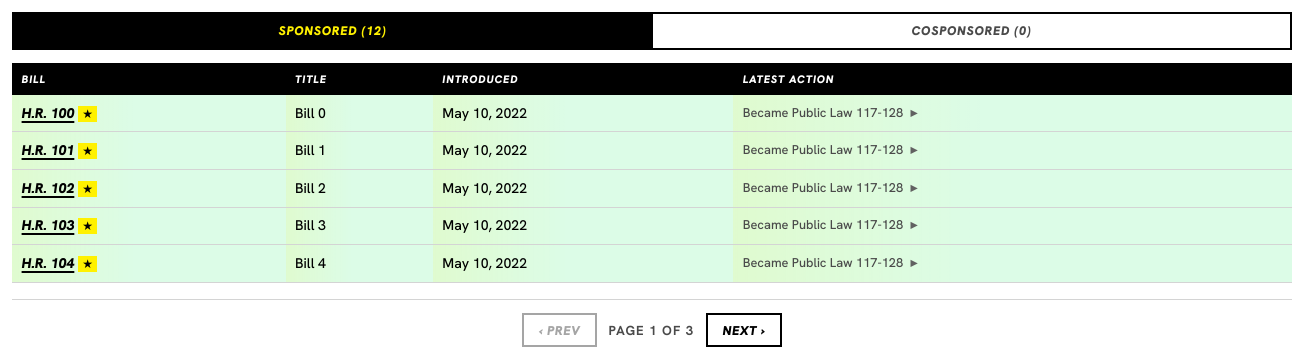
Test: Next advances to page 2; Prev returns to page 1; Prev on page 1 is disabled
This screenshot has width=1304, height=364.
Expected: the button "‹ Prev" is disabled, [522, 313, 597, 347]
Click the button "Next ›".
click(744, 330)  # box [706, 313, 782, 347]
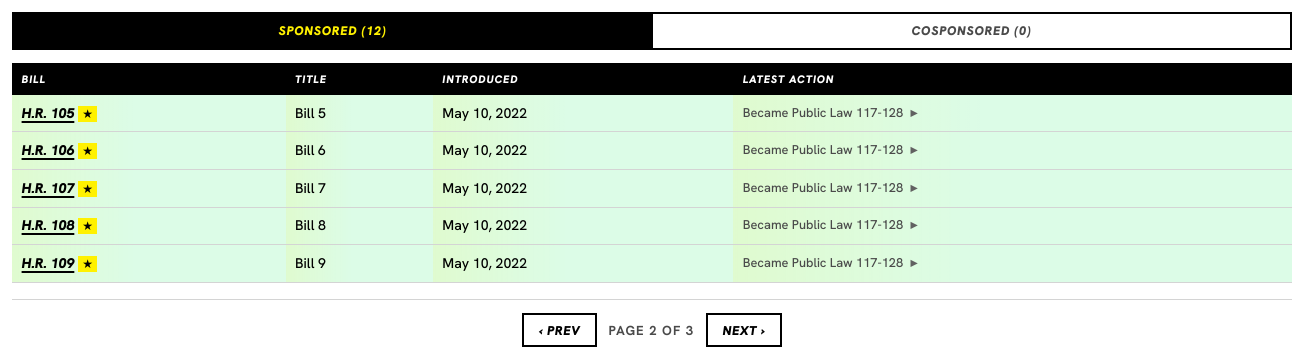
Expected: the text "Page 2 of 3" is shown, [609, 322, 694, 339]
Expected: the button "‹ Prev" is enabled
Click the button "‹ Prev".
click(560, 330)  # box [522, 313, 597, 347]
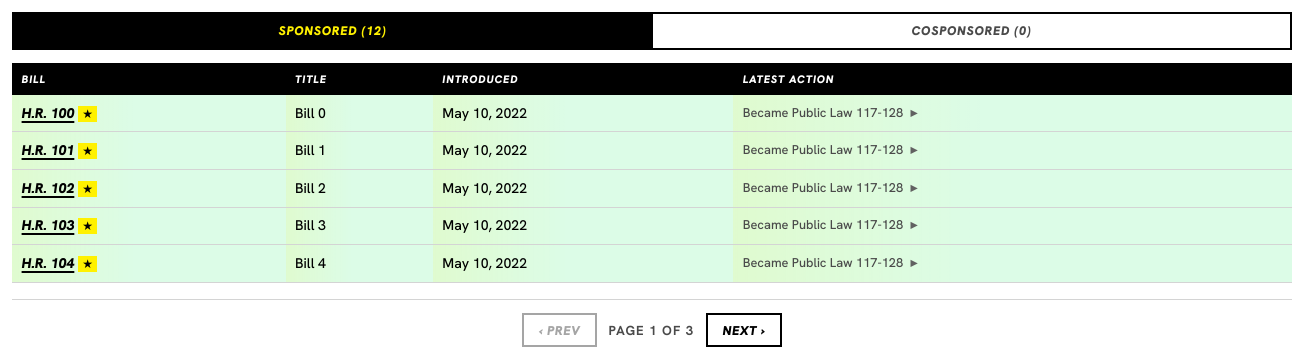
Expected: the text "Page 1 of 3" is shown, [609, 322, 694, 339]
